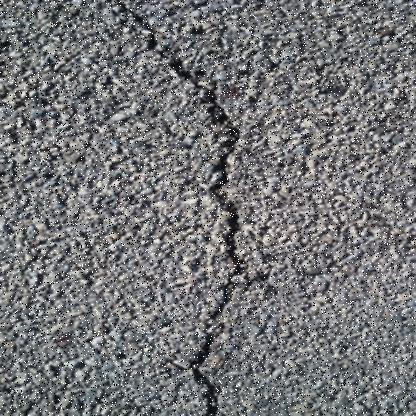Cracks: (81, 0, 261, 415)
